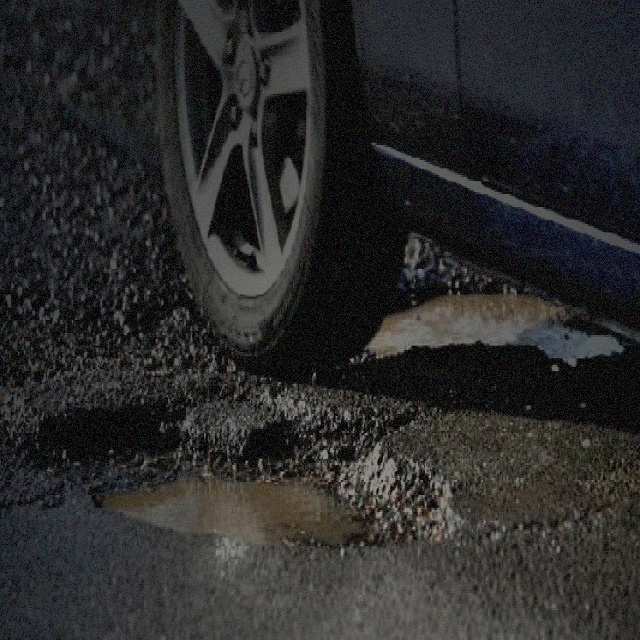pothole: (25, 397, 460, 557)
